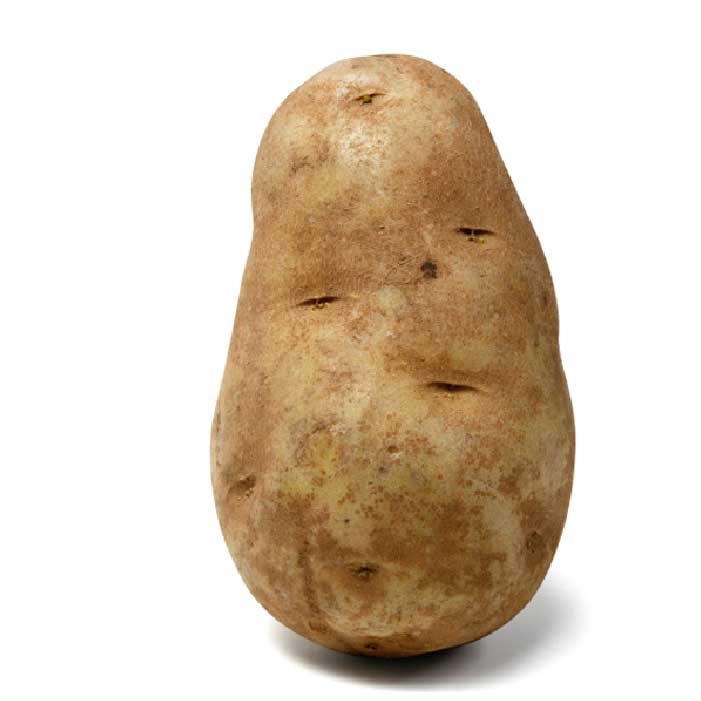Kartoffel: (211, 54, 576, 657)
